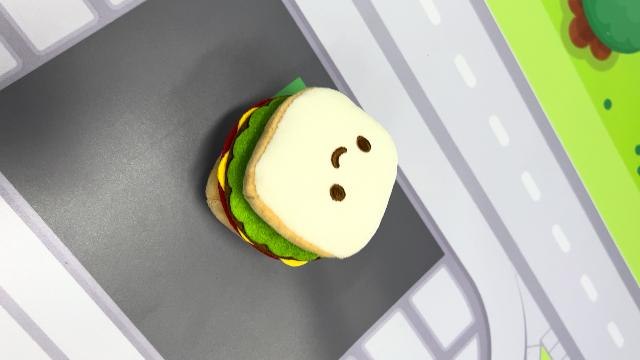sandwich: (204, 82, 400, 268)
